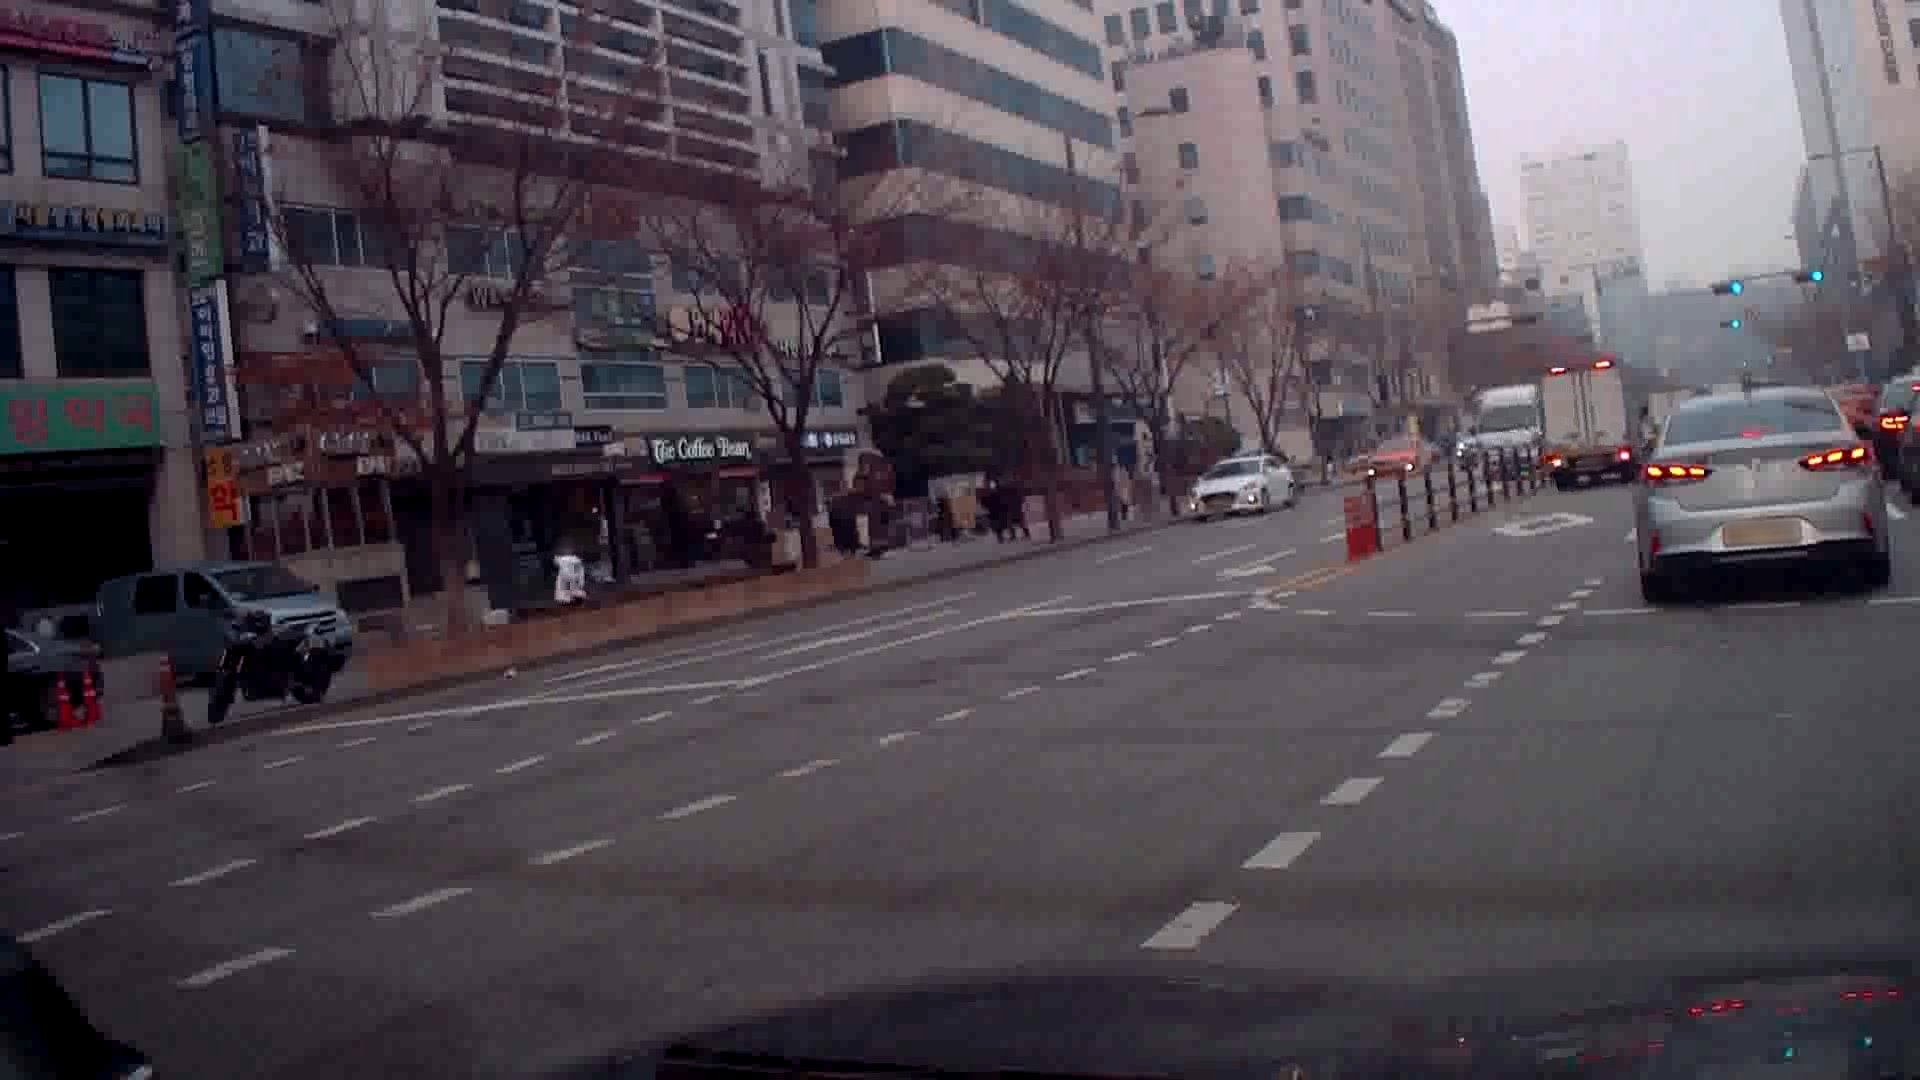trafficLight: (1791, 262, 1826, 287), (1710, 276, 1745, 298), (1716, 318, 1742, 332)
